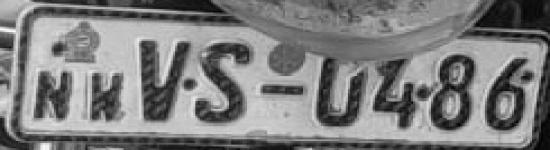-: (259, 82, 306, 99)
0: (314, 50, 370, 130)
4: (369, 50, 423, 131)
6: (480, 51, 533, 135)
8: (424, 49, 479, 134)
N: (30, 67, 77, 122)
S: (194, 36, 255, 127)
V: (134, 36, 194, 126)
W: (81, 69, 132, 126)
